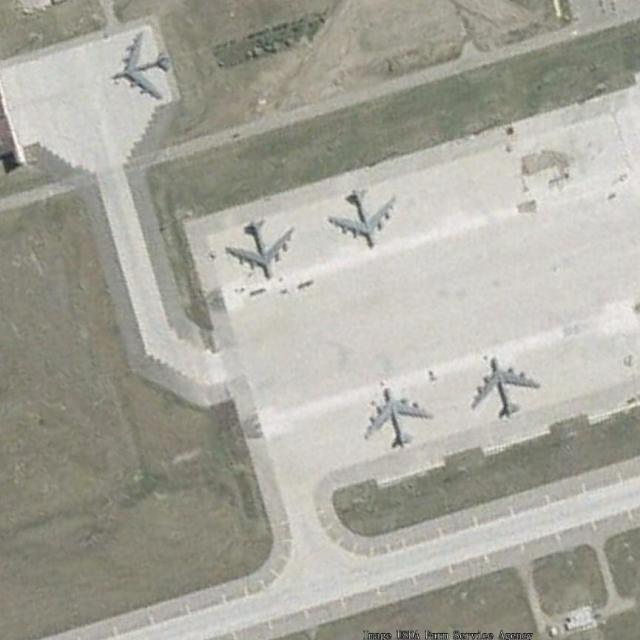fighter jet: (360, 377, 428, 452), (113, 31, 174, 100), (332, 189, 398, 251), (471, 357, 532, 423), (224, 220, 288, 279)
